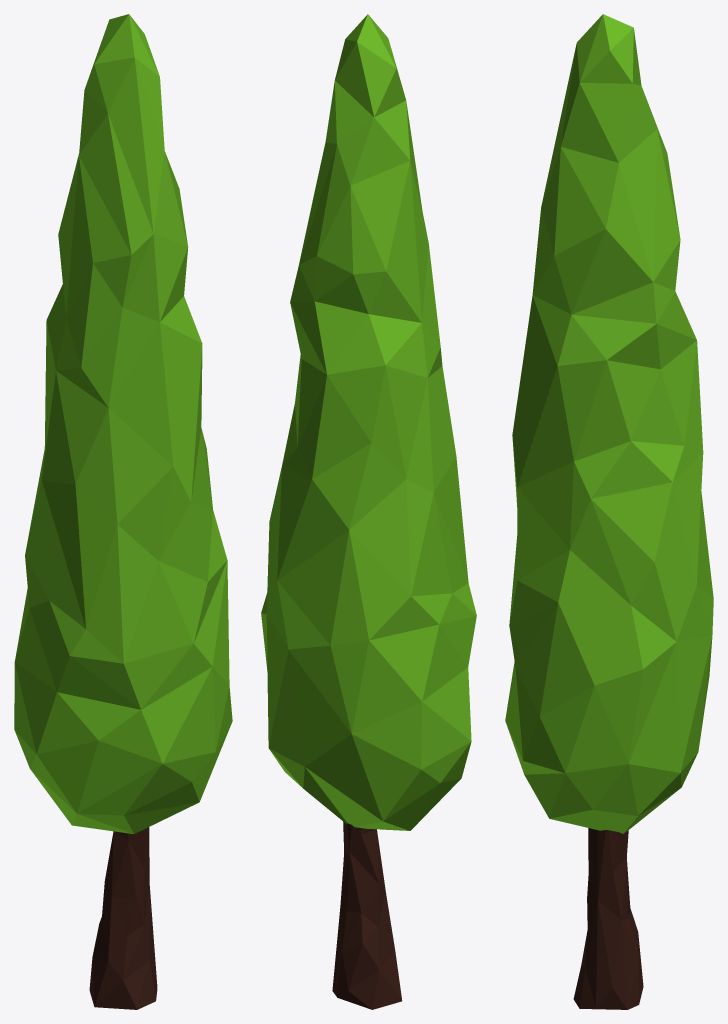
The model's file is pine_c.FBX.
3 views of the same model, side by side, from view 1: azimuth 30°, elevation 25°; view 2: azimuth 150°, elevation 25°; view 3: azimuth 270°, elevation 25° (orthographic).
Visible parts, largest first — view 1: pine_c; view 2: pine_c; view 3: pine_c.
Boxes of the visible parts, box(x1,y1,x2,y2) form: pine_c: box(14, 14, 232, 1009); pine_c: box(261, 14, 476, 1009); pine_c: box(505, 14, 713, 1009).
Size of the model in its own units: 338 by 1693 by 323.
